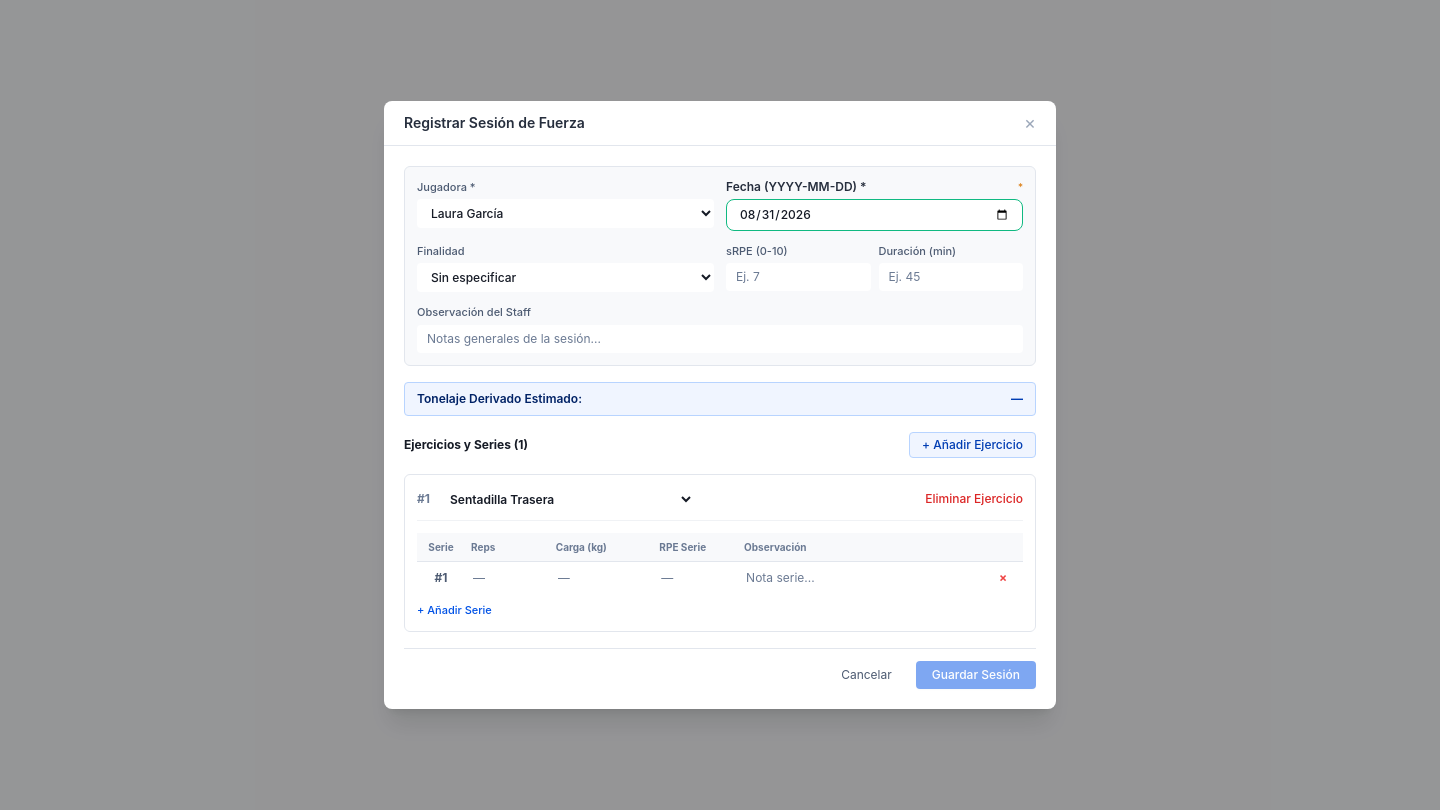
Test case: StrengthFormModal (Alta y Edición de Fuerza) › 20. Error en la acción de persistencia no cierra el modal ni notifica éxito
Select "Laura García" in the dropdown below "Jugadora *": (566, 214) x1=417 y1=199 x2=714 y2=228
In the 1st number field with placeholder "—": (501, 578) x1=469 y1=566 x2=533 y2=590, type "10"
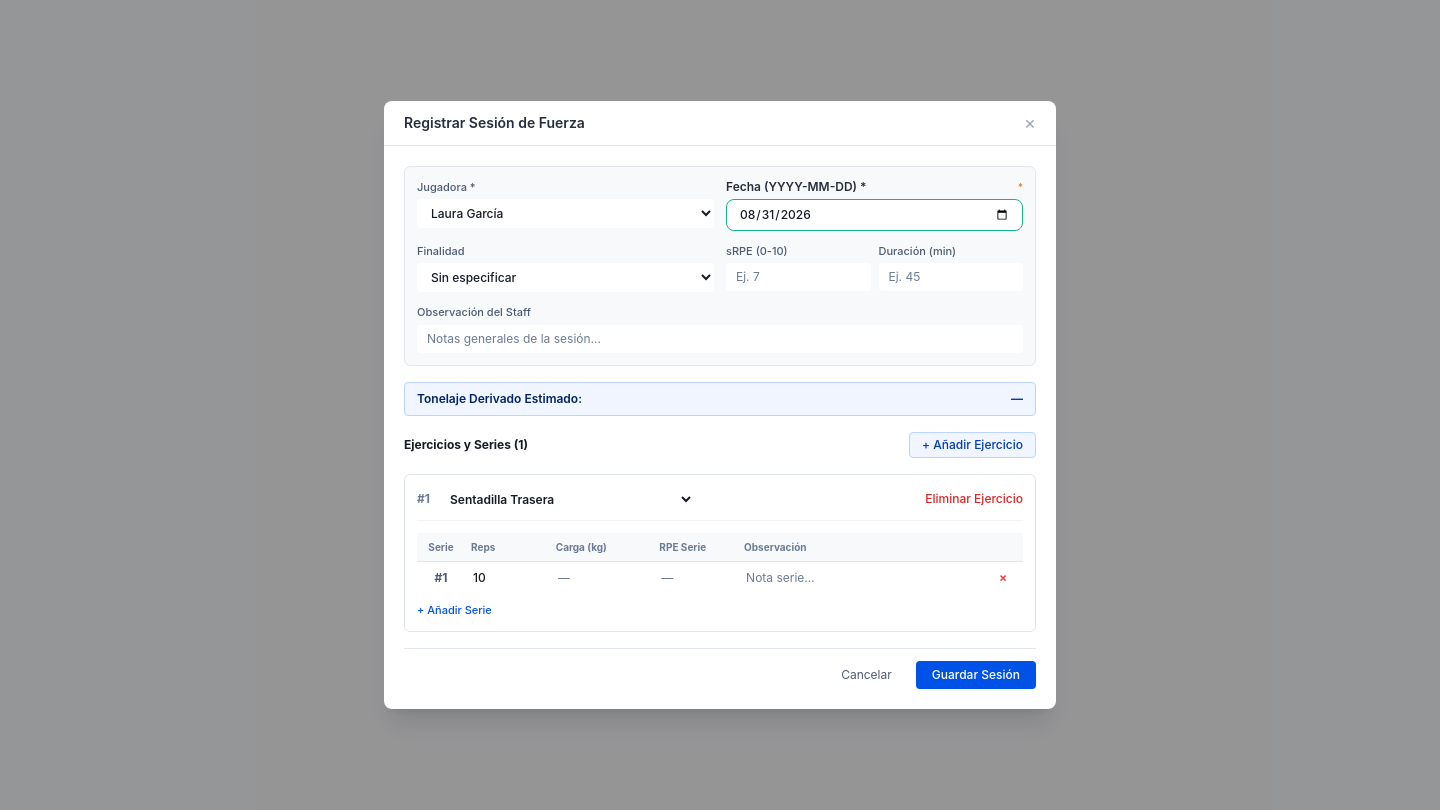
In the 1st number field with placeholder "—": (594, 578) x1=554 y1=566 x2=634 y2=590, type "50"
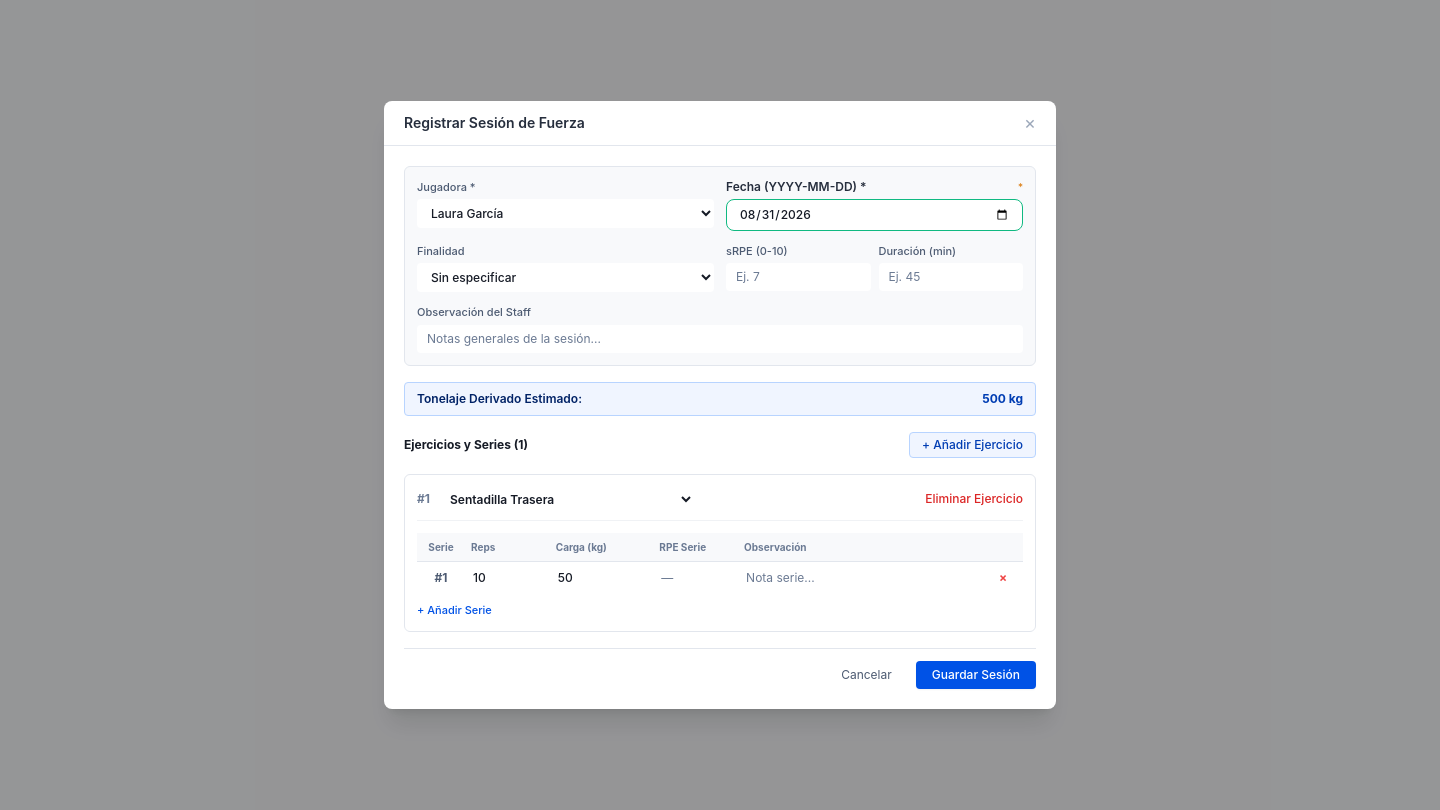
Click the button "Guardar Sesión": (976, 675) x1=916 y1=661 x2=1036 y2=689
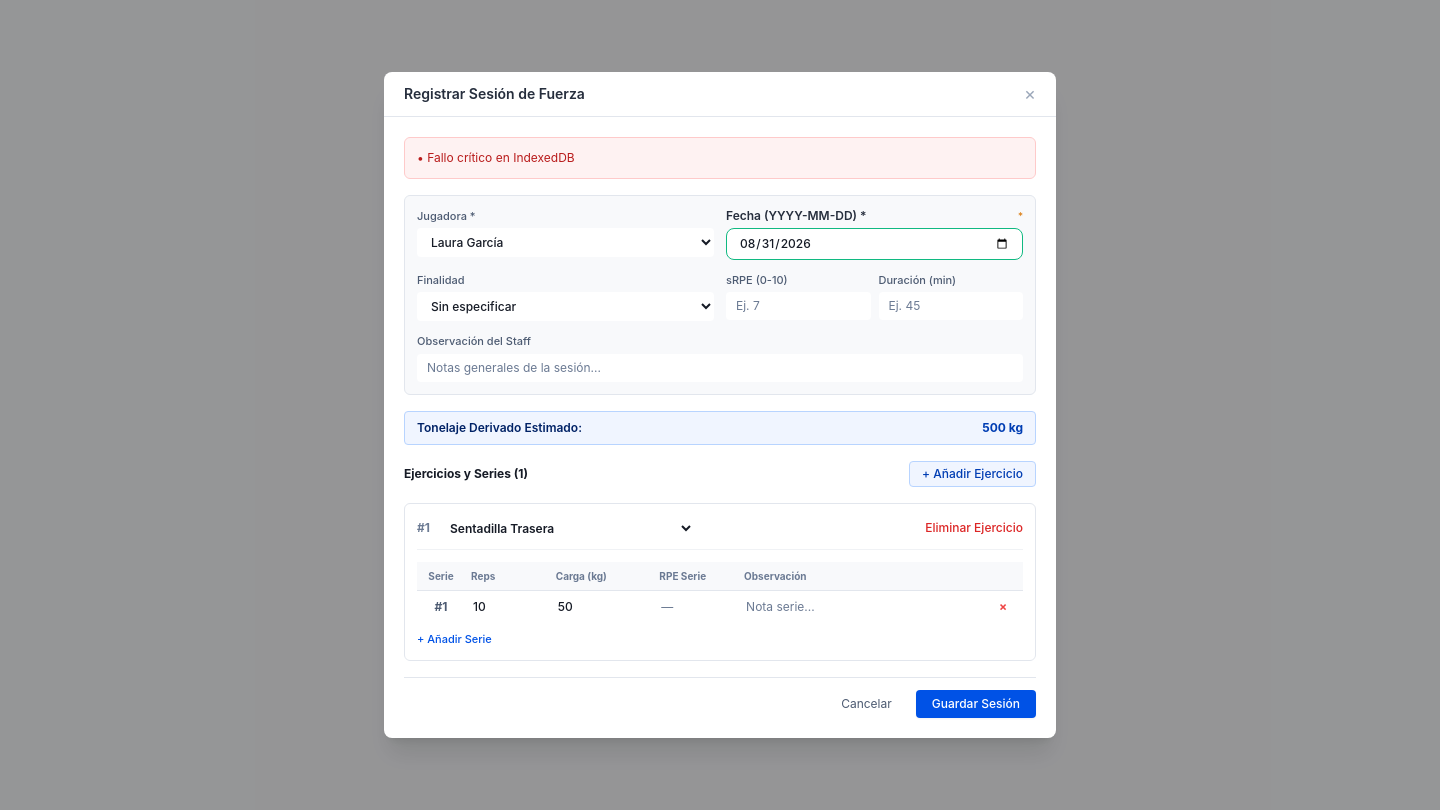
Now the button "Guardar Sesión" is enabled, box x1=916 y1=690 x2=1036 y2=718
Now the text "• Fallo crítico en IndexedDB" is shown, box x1=417 y1=150 x2=575 y2=165
